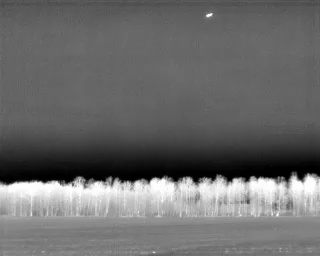DRONE: (203, 9, 216, 22)
